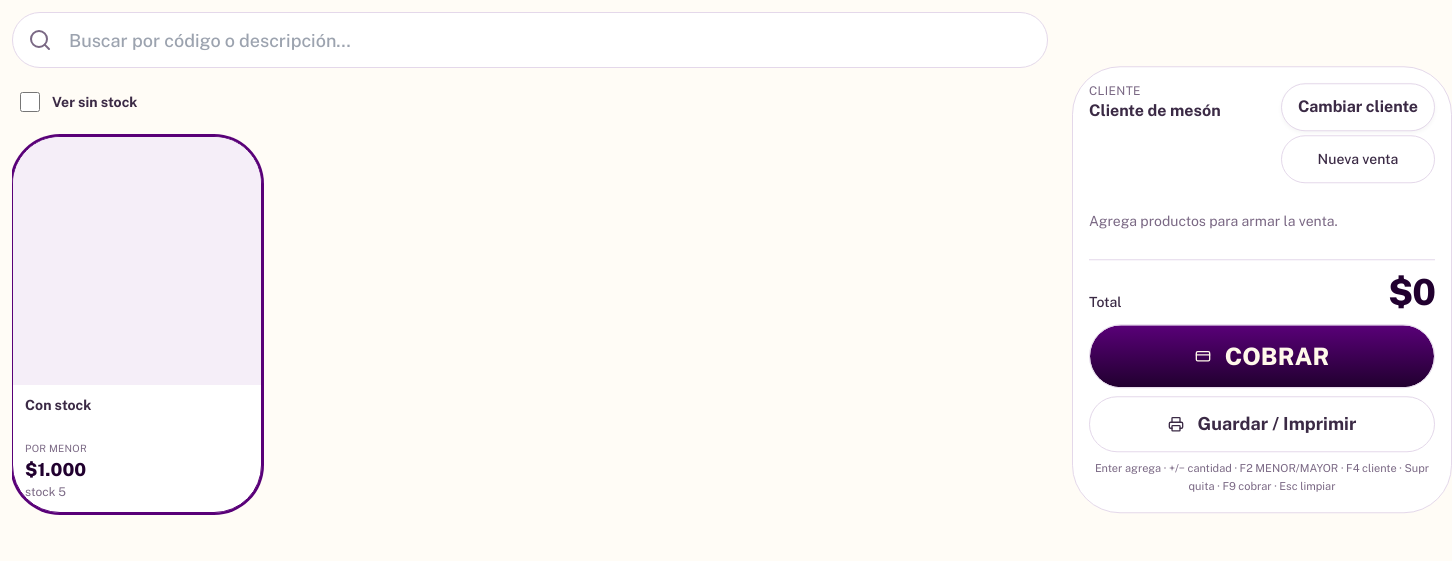
Scenario: pos-stock — lector / Enter con código exacto › código exacto con stock agrega (regresión)
Expected: the button with test id "pos-producto-ST1" is shown, [12,136,262,513]
In the field with placeholder "Buscar por código o descripción…": (530, 40) [12,12,1048,68], type "ST1"
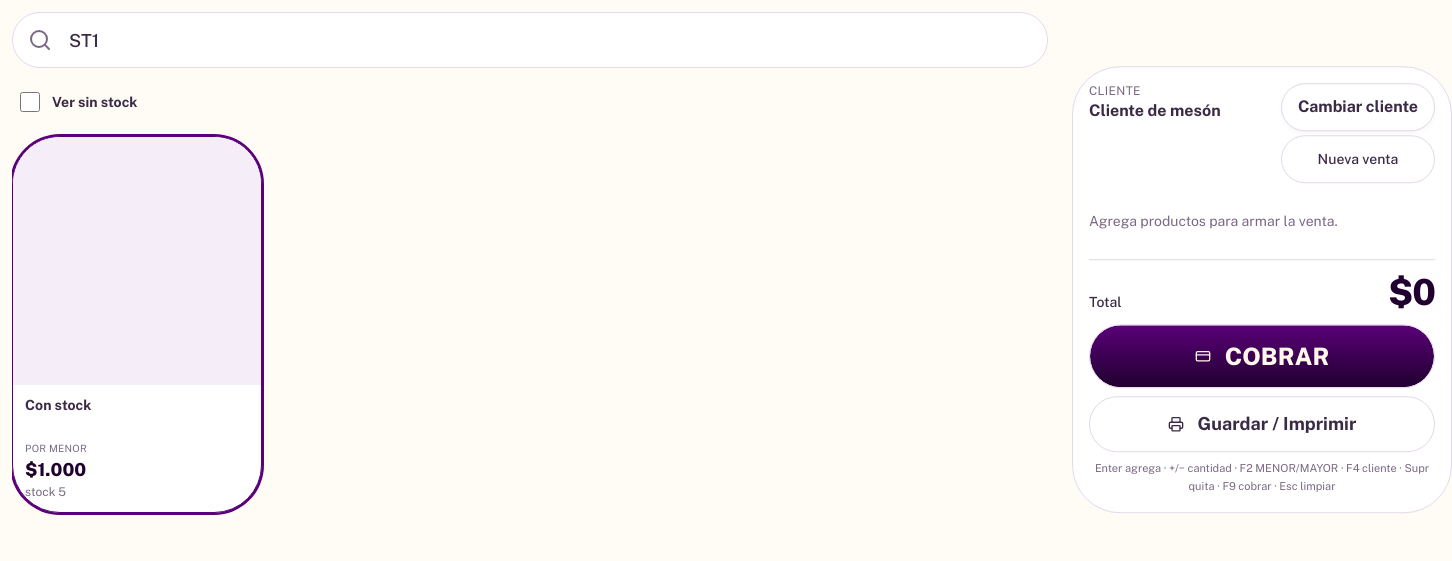
Press Enter in the field with placeholder "Buscar por código o descripción…", box [12,12,1048,68]
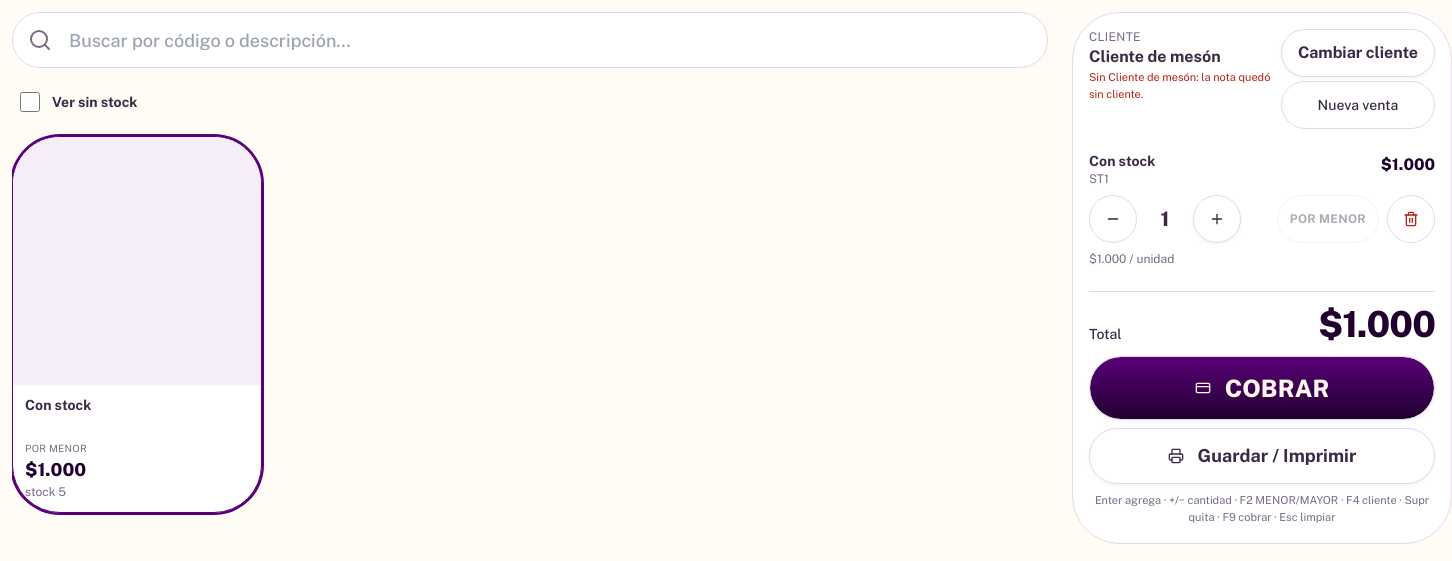
Result: the text "ST1" is shown at [1089,172,1109,186]
